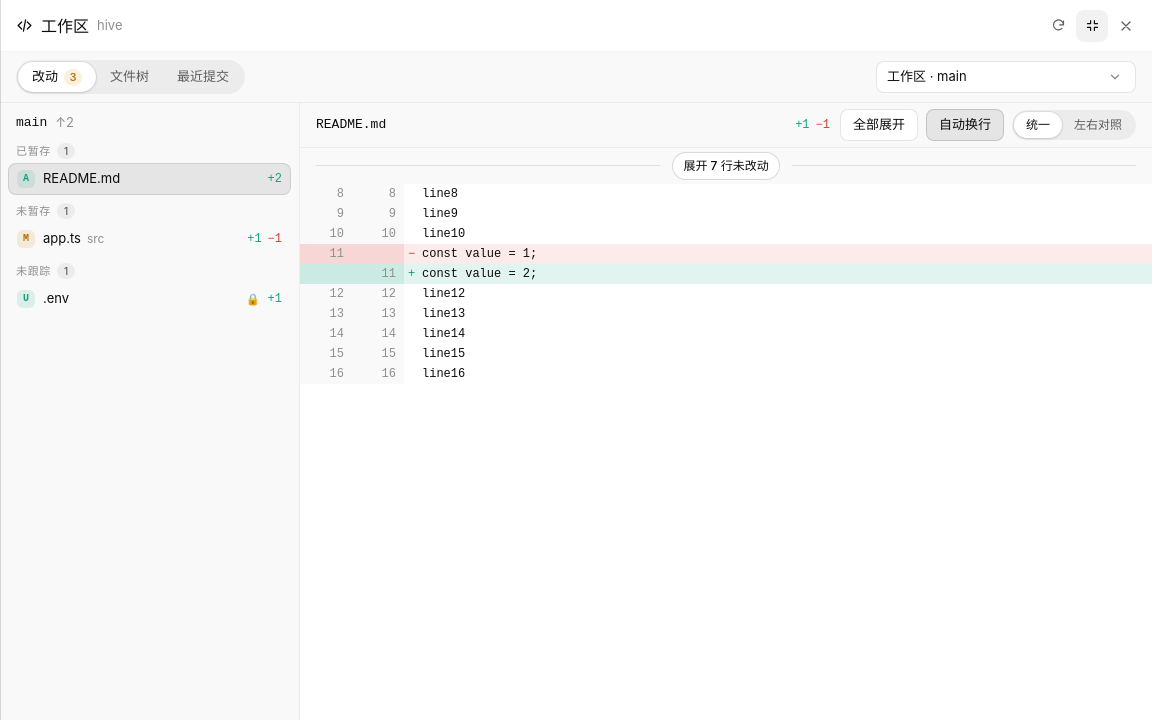
Test: WorkspacePanel › 有 worktree 时可以切换来源，默认看相对 base 的改动
Click the dropdown named "查看哪份代码": (927, 76) [876,61,1136,93]
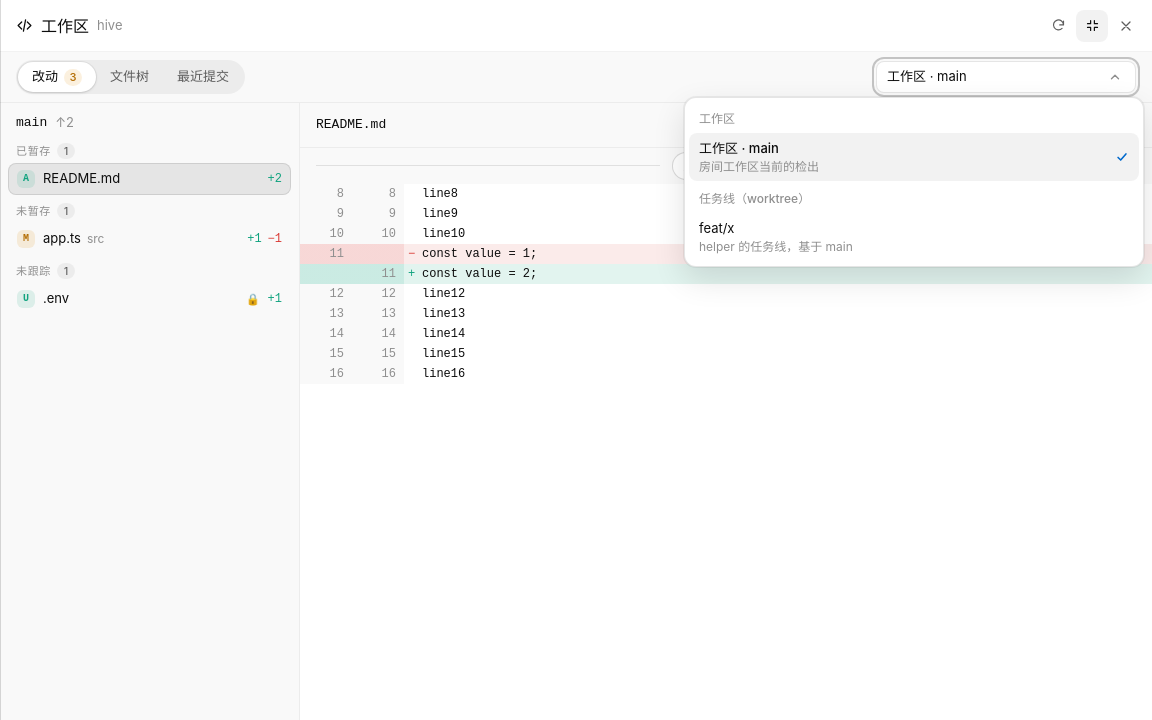
Click the option "feat/x helper 的任务线，基于 main": (776, 237) [699,220,853,254]
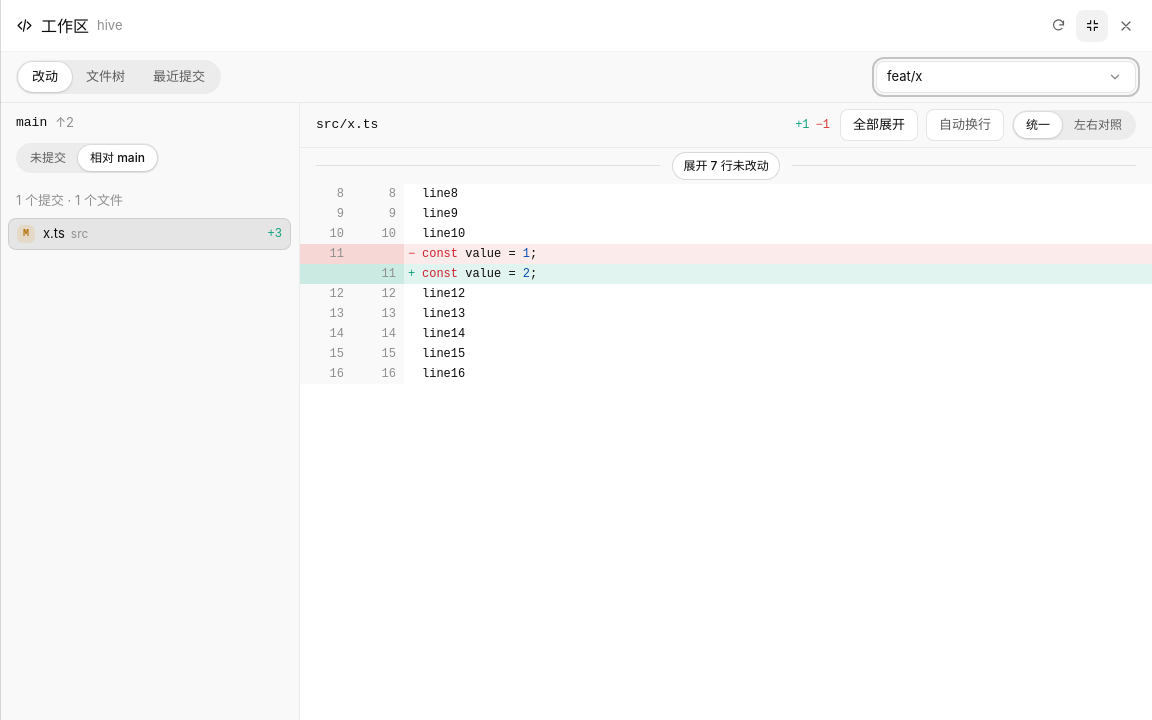
expect the text "1 个提交 · 1 个文件" is shown: met, box [16,192,123,208]
